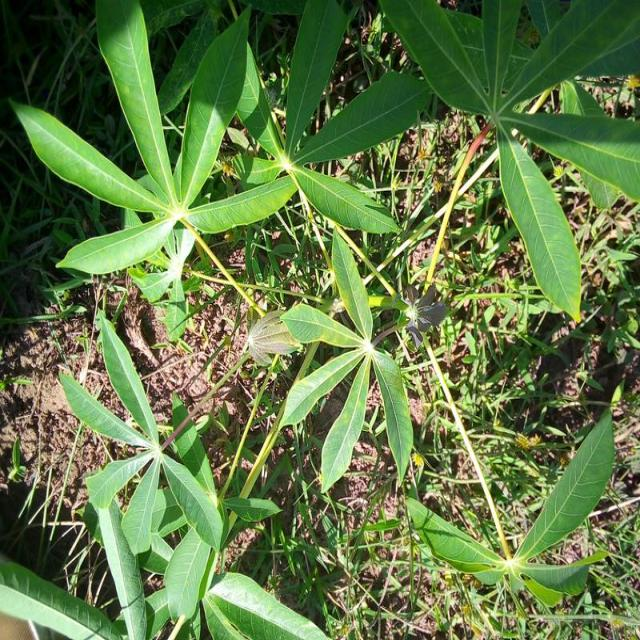cassava leaf: (404, 403, 615, 607)
